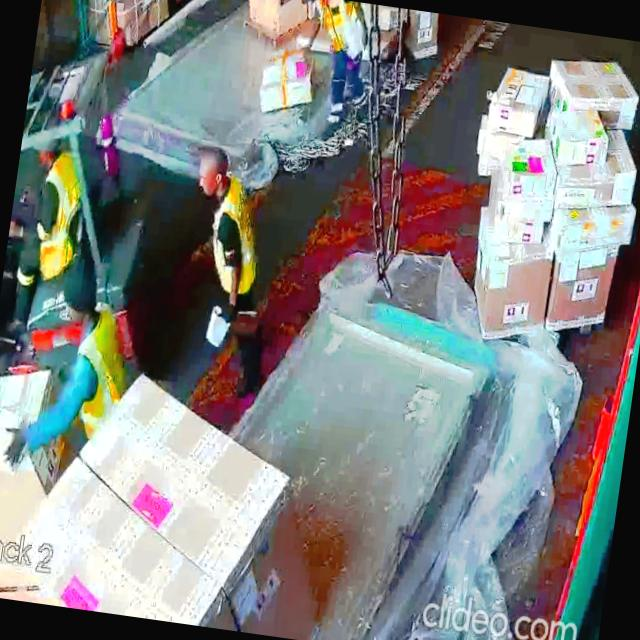Box: (466, 238, 557, 332), (544, 248, 616, 335), (547, 56, 640, 122), (254, 46, 318, 115), (496, 138, 562, 204), (486, 62, 544, 134), (564, 168, 640, 214), (560, 207, 634, 250), (554, 108, 605, 160)
